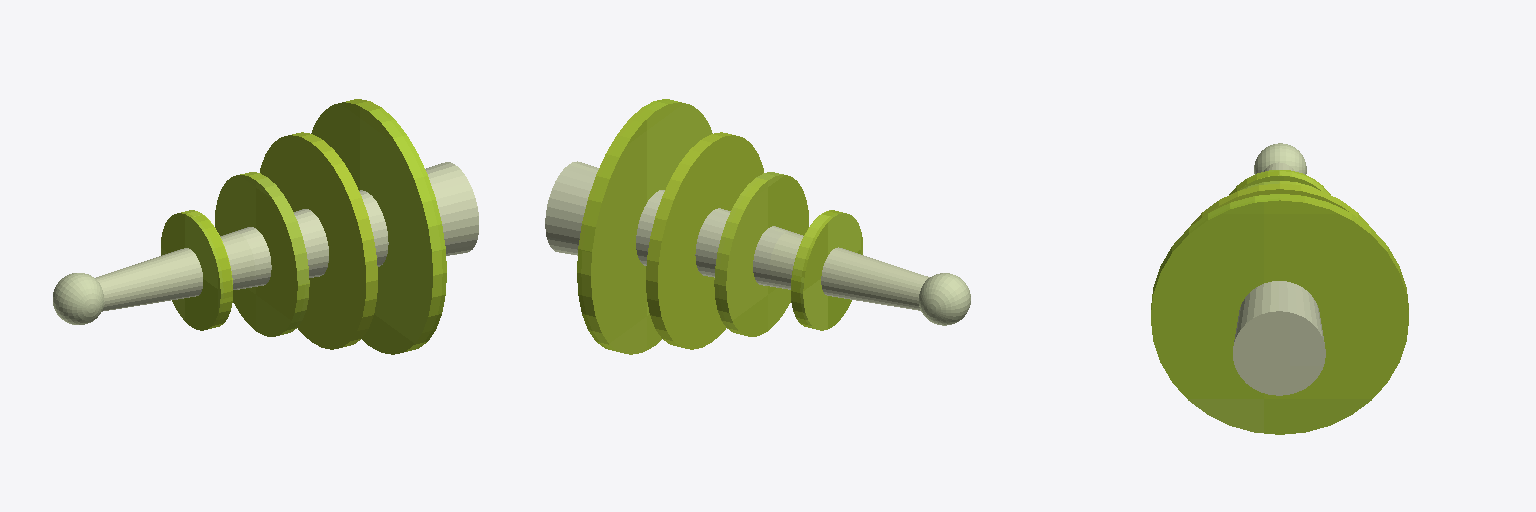
3 views of the same model, side by side, from view 1: azimuth 30°, elevation 25°; view 2: azimuth 150°, elevation 25°; view 3: azimuth 270°, elevation 25° (orthographic).
Visible parts, largest first — view 1: Antena_mortal; view 2: Antena_mortal; view 3: Antena_mortal.
Part boxes in pixels (left/top/right/bottom): Antena_mortal: left=53, top=99, right=478, bottom=354; Antena_mortal: left=545, top=99, right=970, bottom=354; Antena_mortal: left=1151, top=143, right=1408, bottom=434.
Size of the model in its own units: 6.63 by 3.72 by 3.72.
1 materials, 1 textured.